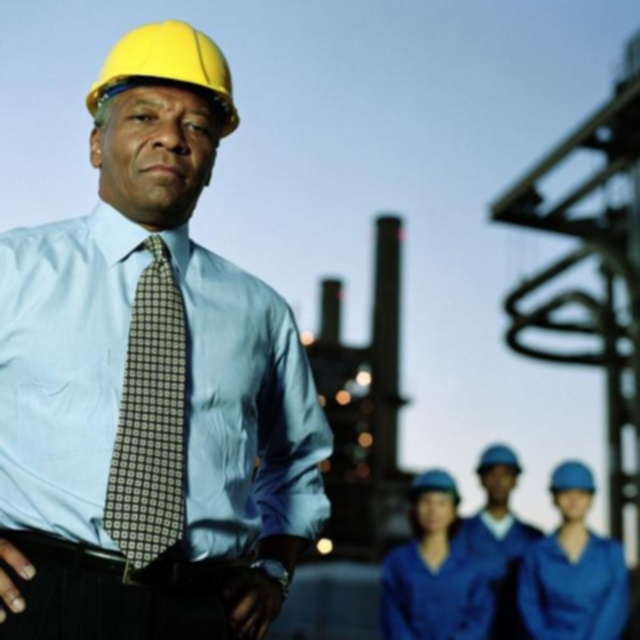Con_Casco: (77, 15, 246, 217)
Sin_Chaleco: (0, 198, 342, 583)
